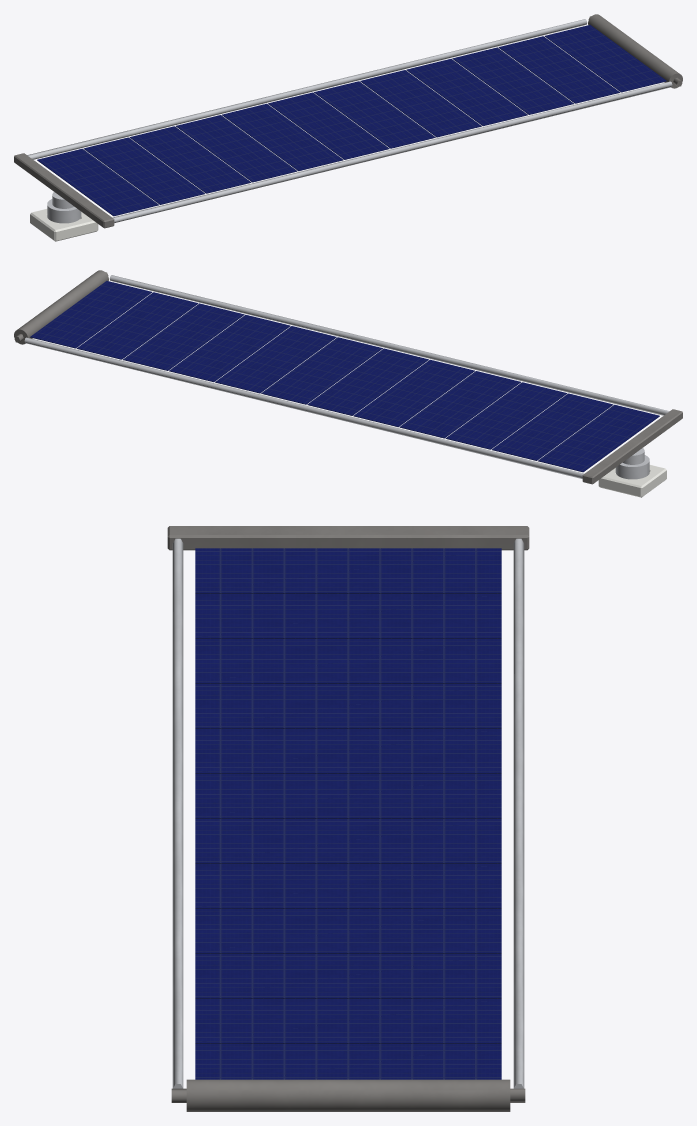
The model's file is ax_power_01_roll_out_array_m_deployed.glb.
3 views of the same model, one above another, from view 1: azimuth 30°, elevation 25°; view 2: azimuth 150°, elevation 25°; view 3: azimuth 270°, elevation 25° (orthographic). The views are drawn at different scales.
Visible parts, largest first — view 1: panel_blanket, boom_1, boom_2, yoke, panel_roll, mount_block, gimbal; view 2: panel_blanket, boom_2, boom_1, yoke, panel_roll, mount_block, gimbal; view 3: panel_blanket, panel_roll, yoke, boom_1, boom_2.
Part boxes in pixels (<box>): panel_blanket: <box>37,25,666,216</box>; boom_1: <box>112,81,672,222</box>; boom_2: <box>27,19,587,159</box>; yoke: <box>14,153,114,228</box>; panel_roll: <box>588,14,682,88</box>; mount_block: <box>30,209,98,241</box>; gimbal: <box>47,192,81,223</box>; panel_blanket: <box>30,281,659,472</box>; boom_2: <box>24,337,584,478</box>; boom_1: <box>109,275,669,415</box>; yoke: <box>582,409,682,484</box>; panel_roll: <box>14,270,108,344</box>; mount_block: <box>598,465,666,497</box>; gimbal: <box>615,448,649,479</box>; panel_blanket: <box>195,548,501,1079</box>; panel_roll: <box>171,1079,525,1111</box>; yoke: <box>167,526,529,550</box>; boom_1: <box>172,538,183,1088</box>; boom_2: <box>513,538,524,1088</box>.
Size of the model in its own units: 6.51 by 0.46 by 1.7.
4 materials, 3 textured.
